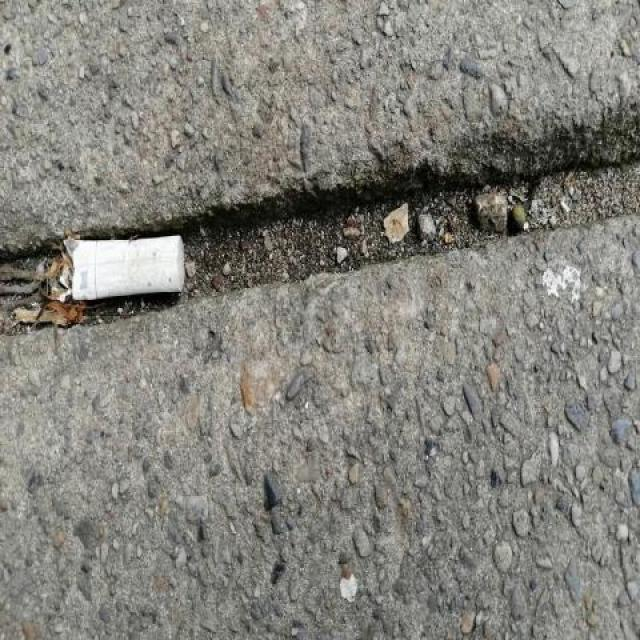non-organic waste: (62, 228, 190, 309)
